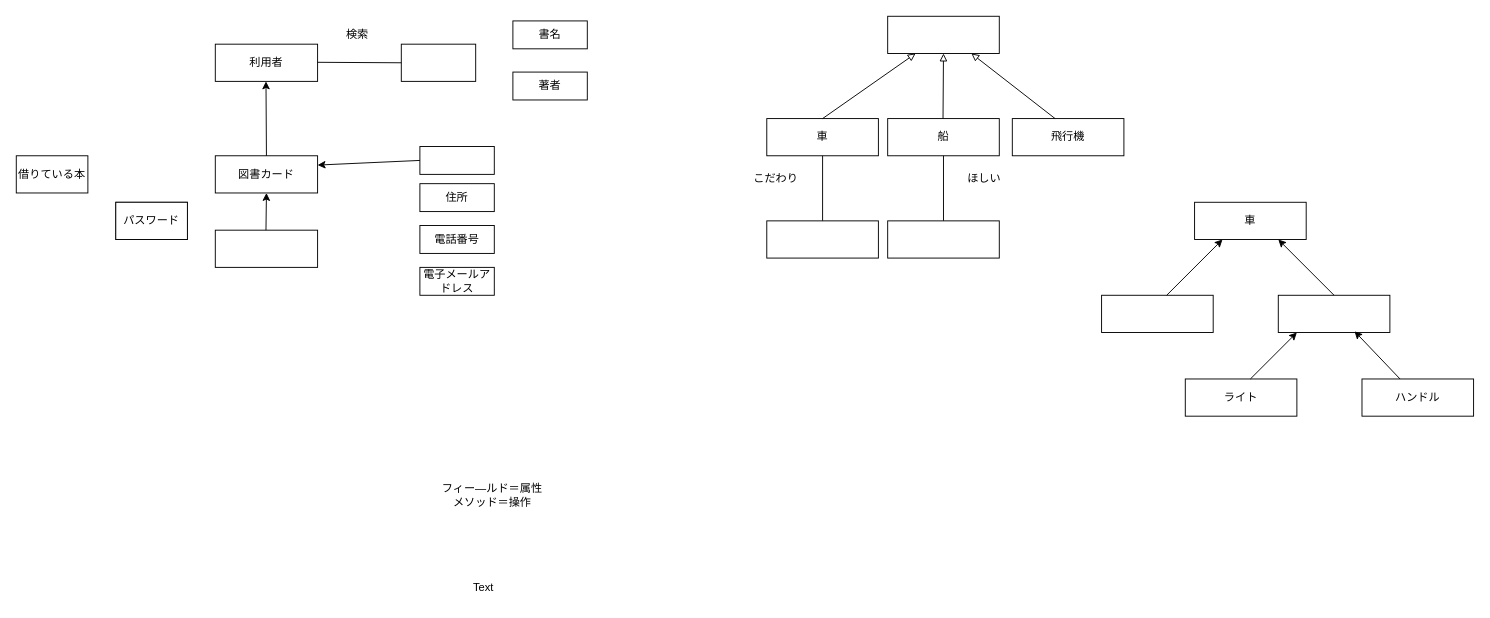
Image size: 1490x618. Some labels were removed from this diagram. The centre of each missing label's shape, as x and y in pixels:
ID: the point at 266,248
さこん: the point at 943,239
エンジン: the point at 1157,313
ボディ: the point at 1333,313
乗り物: the point at 943,34
図書: the point at 438,62
氏名: the point at 456,160
金色: the point at 822,239
